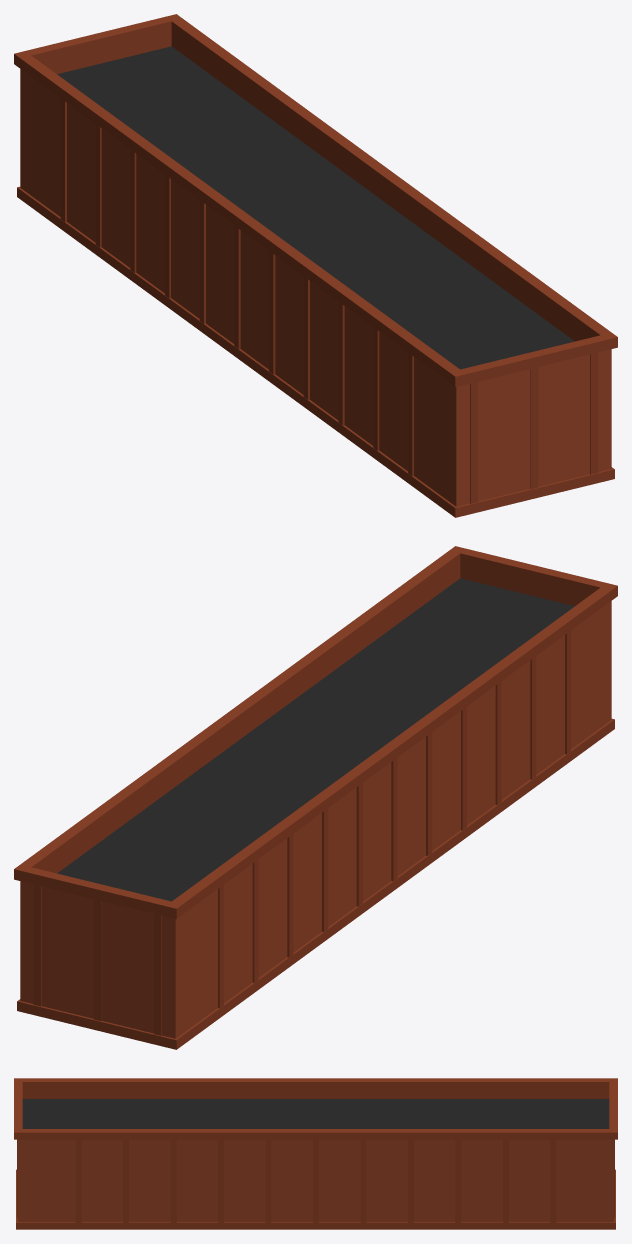
Rendered from TrainPart_05.fbx.
3 renders of one model, top to bottom at view 1: azimuth 30°, elevation 25°; view 2: azimuth 150°, elevation 25°; view 3: azimuth 270°, elevation 25°, orthographic. The views are drawn at different scales.
Visible parts, largest first — view 1: TrainPart_05; view 2: TrainPart_05; view 3: TrainPart_05.
Boxes of the visible parts, <box> form: TrainPart_05: <box>14,14,617,517</box>; TrainPart_05: <box>14,546,617,1049</box>; TrainPart_05: <box>14,1078,617,1229</box>.
Size of the model in its own units: 362 by 304 by 1705.
